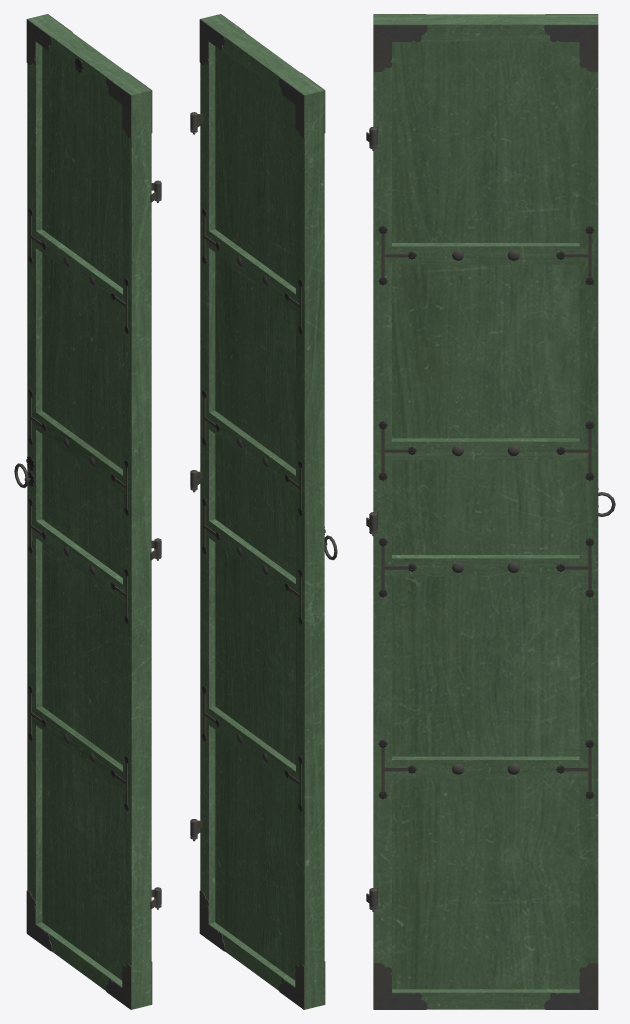
The model's file is SM_Door06A.fbx.
3 renders of one model, left to right at view 1: azimuth 30°, elevation 25°; view 2: azimuth 210°, elevation 25°; view 3: azimuth 270°, elevation 25°, orthographic. The views are drawn at different scales.
Visible parts, largest first — view 1: SM_Door06A; view 2: SM_Door06A; view 3: SM_Door06A.
Boxes of the visible parts, x1,y1,x2,y2 form: SM_Door06A: [14, 14, 161, 1009]; SM_Door06A: [190, 14, 337, 1009]; SM_Door06A: [366, 14, 615, 1009].
Bounding box in the file's own units: 9.51 × 53.75 × 234.
